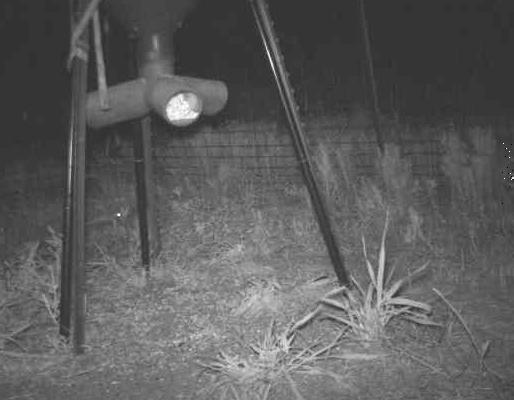Raccoon: (502, 143, 514, 208)
